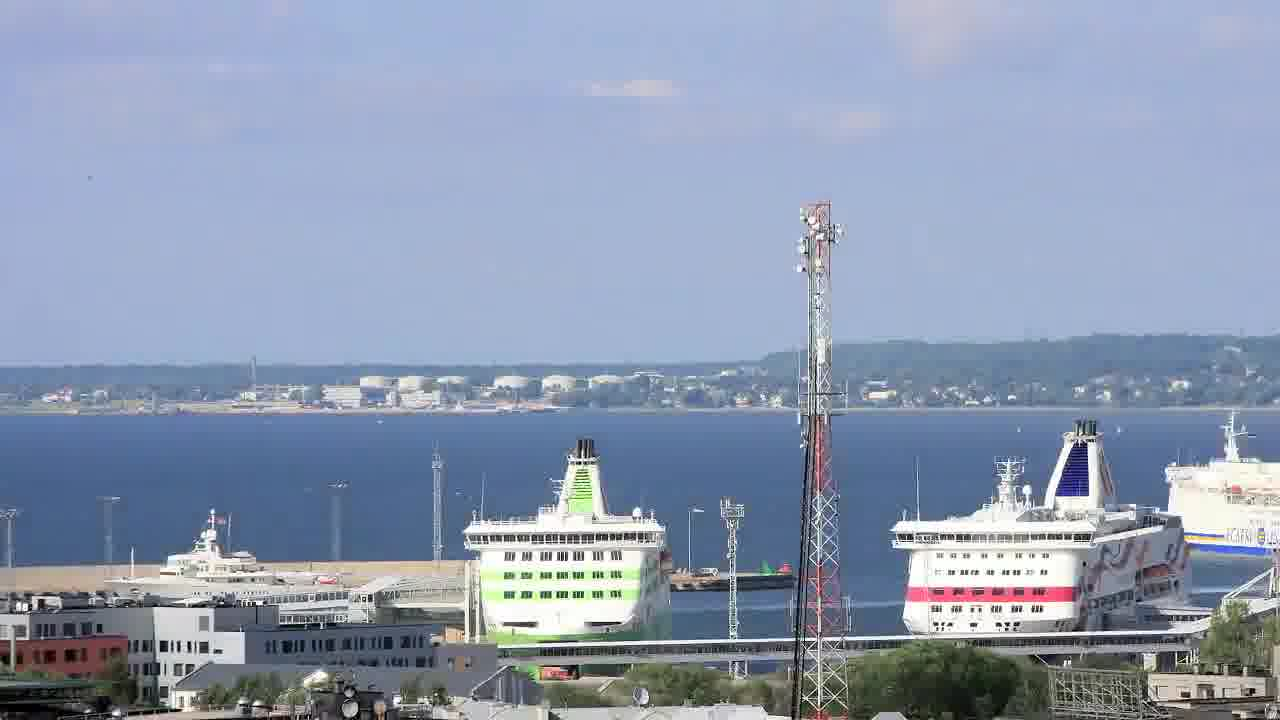type-3: (868, 415, 1225, 638), (436, 434, 694, 670), (83, 505, 372, 610), (1155, 399, 1279, 571)
